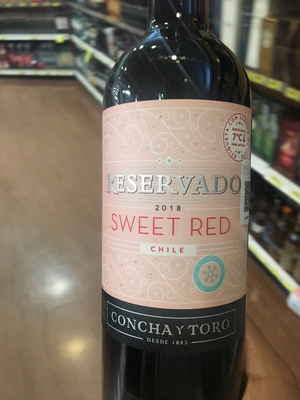reservado sweet red: (92, 24, 253, 380)
